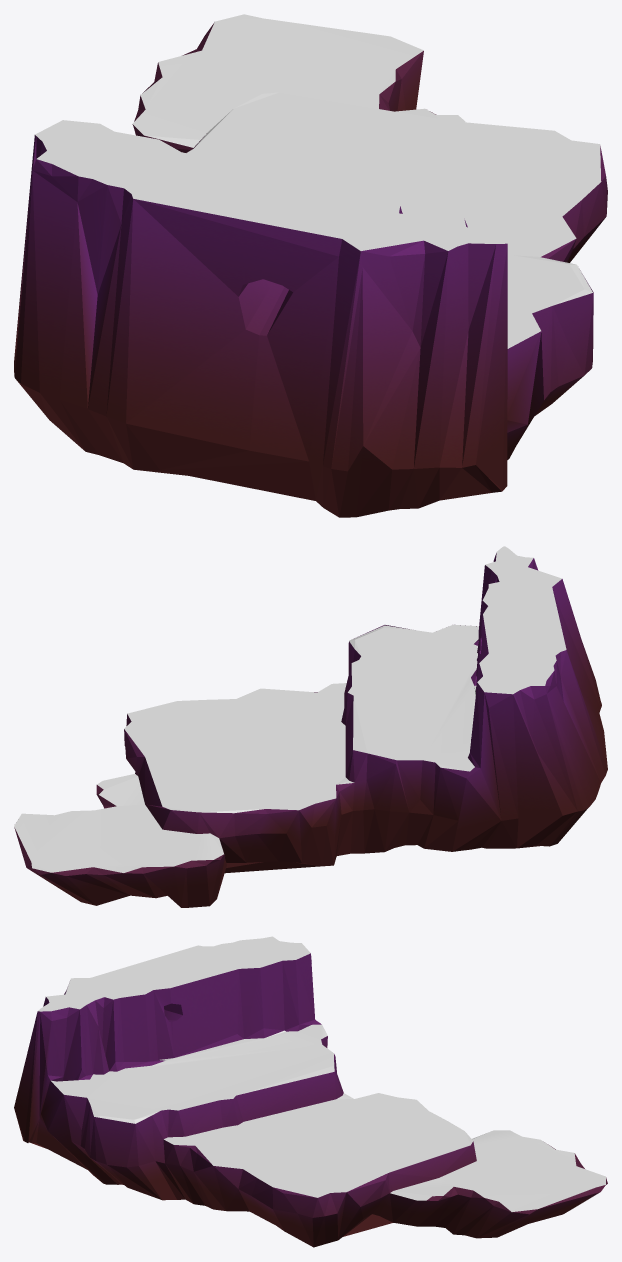
The model's file is Mod_Level4_Versie2.fbx.
3 views of the same model, one above another, from view 1: azimuth 30°, elevation 25°; view 2: azimuth 150°, elevation 25°; view 3: azimuth 270°, elevation 25° (orthographic). The views are drawn at different scales.
Visible parts, largest first — view 1: MOD_Level4, MOD_Level4_Floor; view 2: MOD_Level4_Floor, MOD_Level4; view 3: MOD_Level4, MOD_Level4_Floor.
Boxes of the visible parts, box(x1,y1,x2,y2) form: MOD_Level4: box(14, 22, 607, 517); MOD_Level4_Floor: box(35, 14, 601, 348); MOD_Level4_Floor: box(14, 546, 566, 872); MOD_Level4: box(14, 553, 607, 907); MOD_Level4: box(14, 953, 607, 1247); MOD_Level4_Floor: box(38, 936, 605, 1211).
Bounding box in the file's own units: 15.6 × 6.27 × 21.66.
